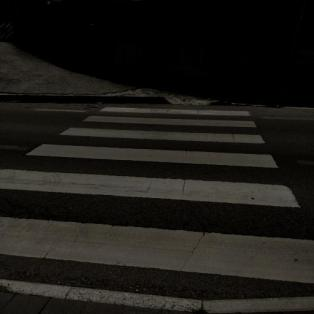Paso de Cebra: (0, 166, 314, 286), (56, 115, 270, 146)
